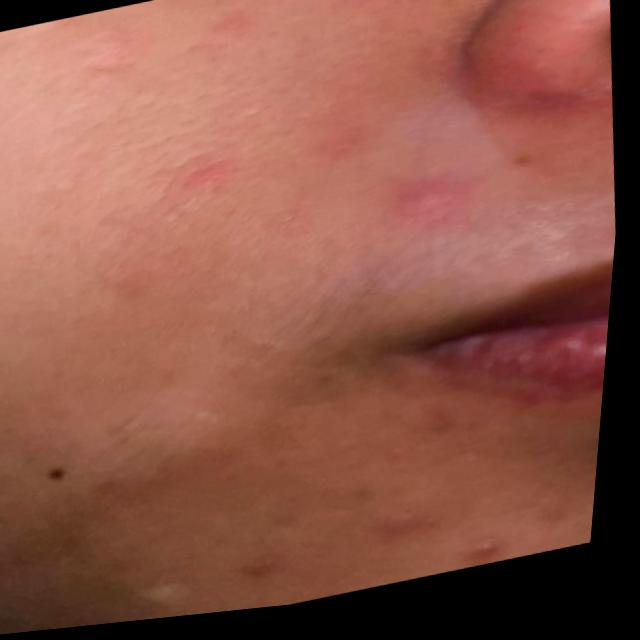papule: (374, 161, 506, 239), (324, 501, 477, 557)
pustule: (475, 528, 540, 576)
